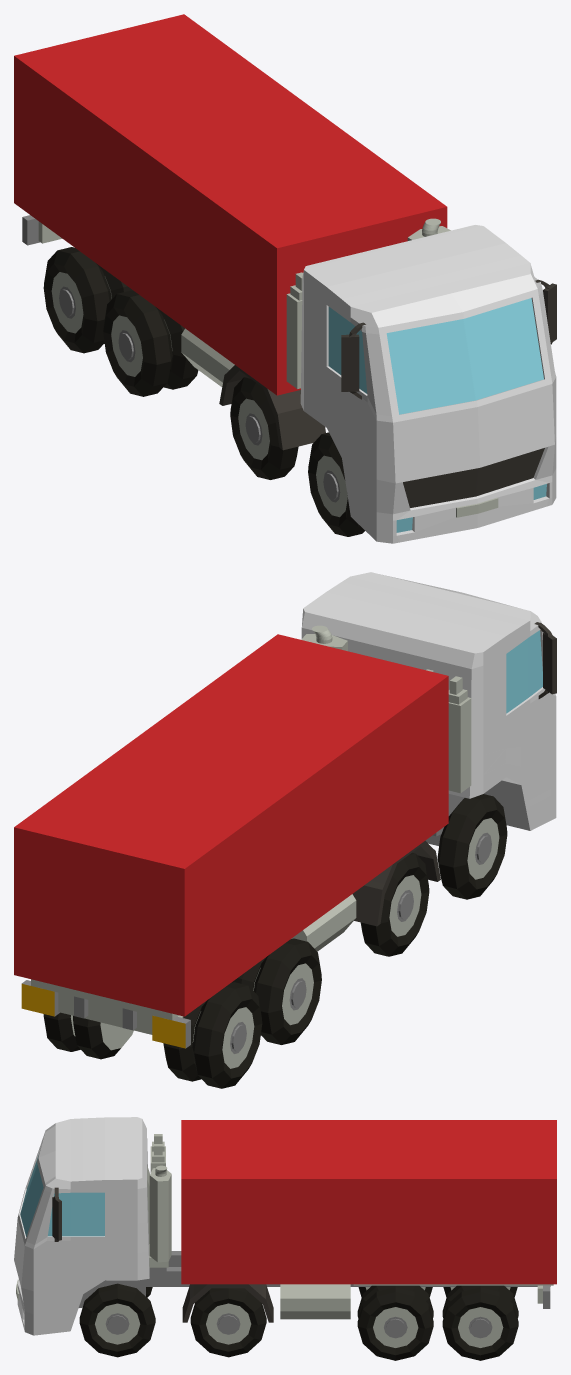
Rendered from truck-container.fbx.
3 renders of one model, top to bottom at view 1: azimuth 30°, elevation 25°; view 2: azimuth 150°, elevation 25°; view 3: azimuth 270°, elevation 25°, orthographic. The views are drawn at different scales.
Visible parts, largest first — view 1: Container, Body, Rear Right Wheel, Rear Right Wheel 2, Front Right Wheel 2, Front Right Wheel; view 2: Container, Body, Rear Right Wheel 2, Rear Right Wheel, Front Right Wheel, Front Right Wheel 2, Rear Left Wheel 2; view 3: Container, Body, Rear Left Wheel 2, Rear Left Wheel, Front Left Wheel, Front Left Wheel 2.
Boxes of the visible parts, left/top/right/bottom form: Container: left=14, top=14, right=447, bottom=395; Body: left=22, top=215, right=556, bottom=543; Rear Right Wheel: left=103, top=290, right=198, bottom=396; Rear Right Wheel 2: left=43, top=247, right=133, bottom=353; Front Right Wheel 2: left=230, top=376, right=298, bottom=479; Front Right Wheel: left=308, top=432, right=364, bottom=536; Container: left=14, top=634, right=448, bottom=1016; Body: left=21, top=572, right=556, bottom=1048; Rear Right Wheel 2: left=163, top=982, right=262, bottom=1088; Rear Right Wheel: left=232, top=938, right=321, bottom=1044; Front Right Wheel: left=437, top=794, right=507, bottom=899; Front Right Wheel 2: left=360, top=852, right=429, bottom=956; Rear Left Wheel 2: left=43, top=1012, right=133, bottom=1059; Container: left=181, top=1120, right=556, bottom=1284; Body: left=14, top=1117, right=553, bottom=1335; Rear Left Wheel 2: left=442, top=1285, right=518, bottom=1360; Rear Left Wheel: left=357, top=1285, right=433, bottom=1360; Front Left Wheel: left=79, top=1283, right=155, bottom=1357; Front Left Wheel 2: left=190, top=1288, right=266, bottom=1357.
Size of the model in its own units: 134 by 154 by 410.
